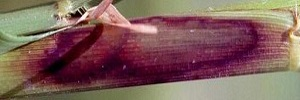RiceSheathBrownRot: (1, 13, 295, 95)
